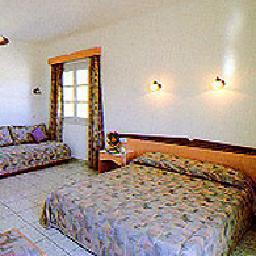Cama: (38, 161, 251, 243)
Ventana: (58, 62, 97, 120)
